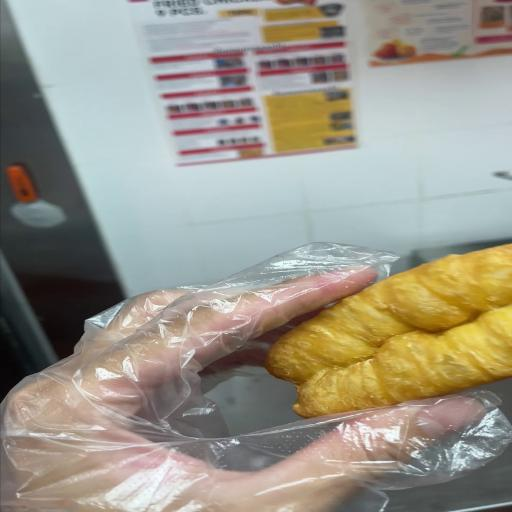brand_golden_good: (267, 244, 512, 418)
